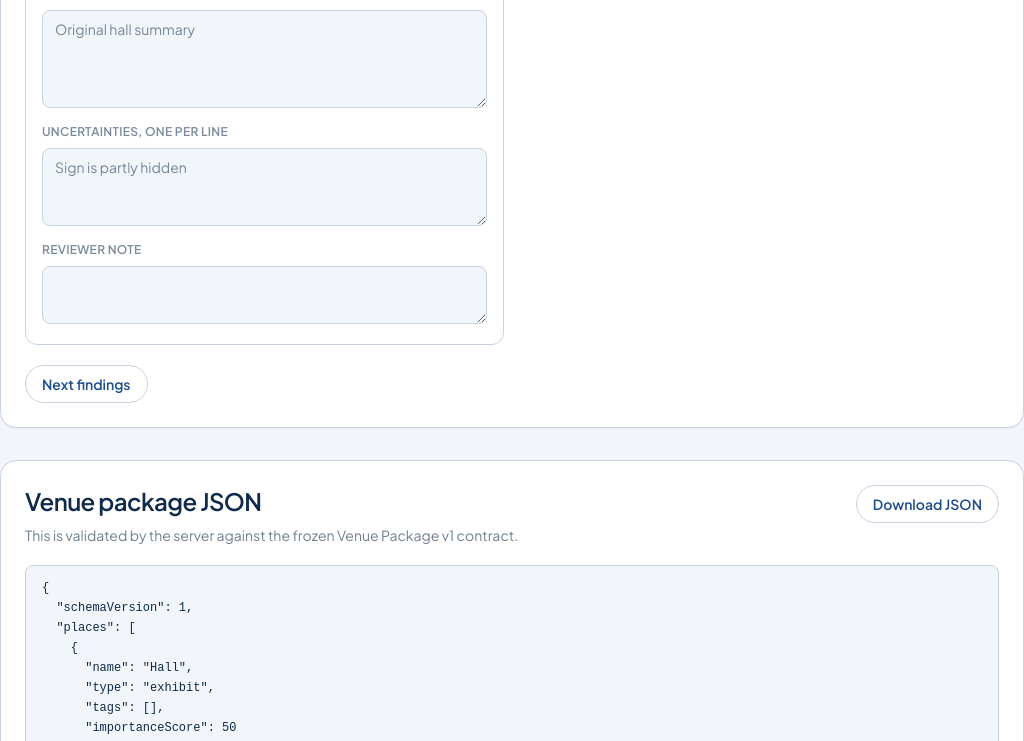
Test: media ingestion review › replaces the editable findings page and keeps the form bounded
(page scrolled)
Click the button "Next findings" at (86, 384), box x1=25 y1=365 x2=148 y2=403
(page scrolled)
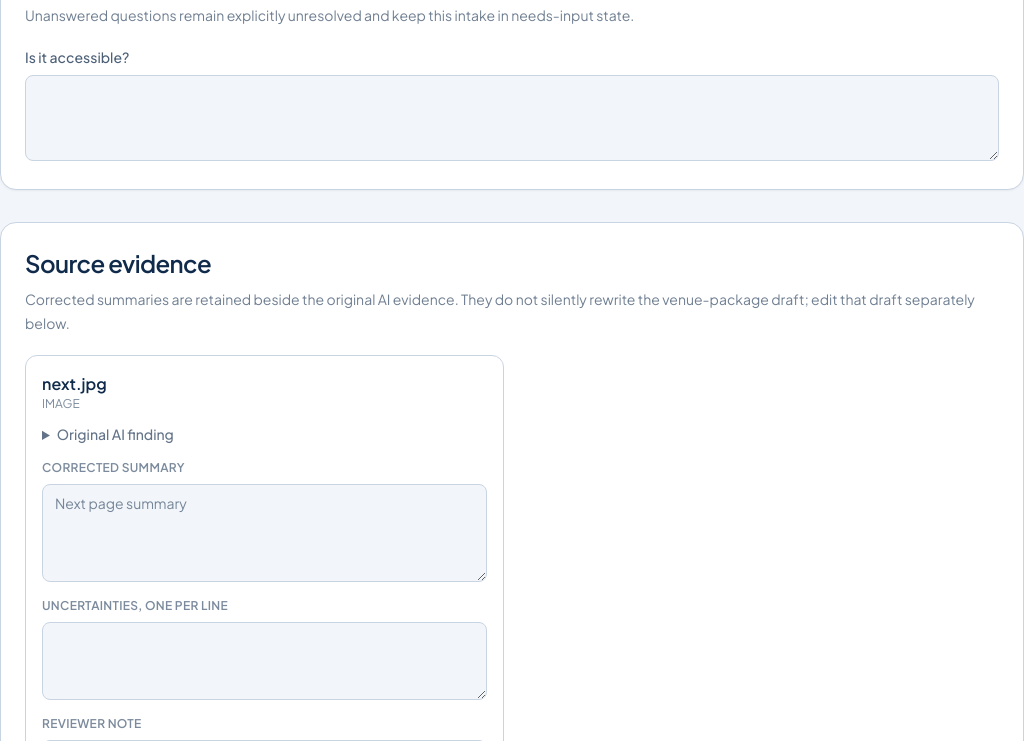
Expected: the heading "next.jpg" is shown, x1=42 y1=372 x2=107 y2=396
